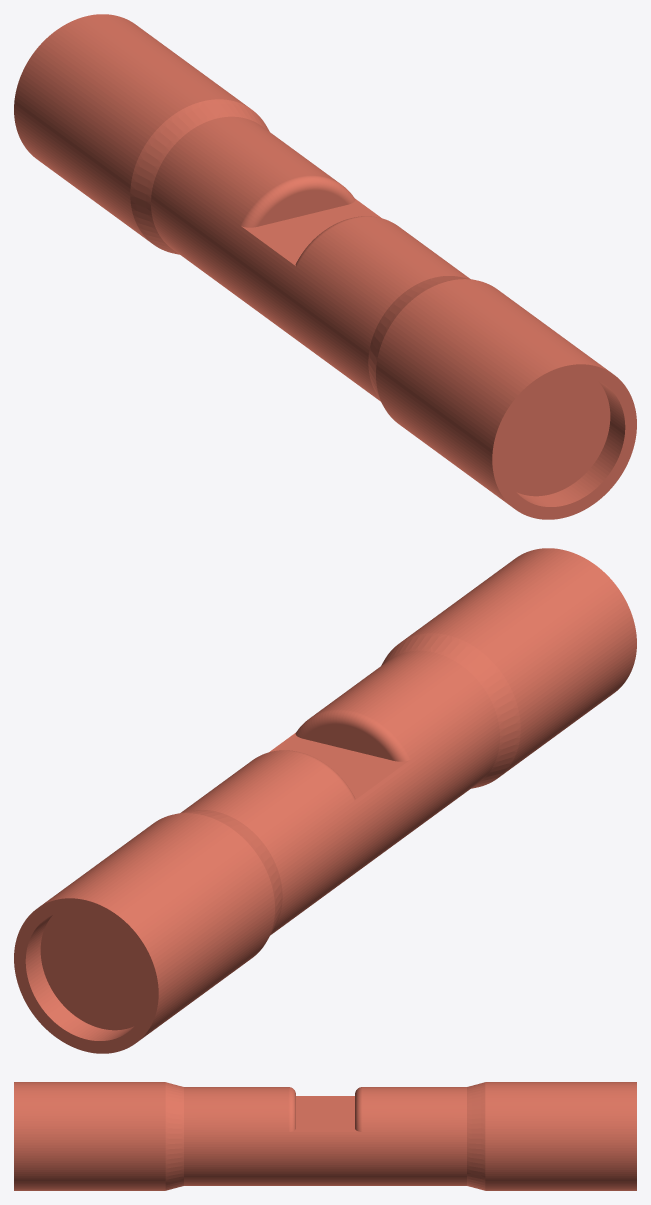
Rendered from TE320559_splice_3.glb.
3 renders of one model, top to bottom at view 1: azimuth 30°, elevation 25°; view 2: azimuth 150°, elevation 25°; view 3: azimuth 270°, elevation 25°, orthographic. The views are drawn at different scales.
Visible parts, largest first — view 1: TE320559_splice_3; view 2: TE320559_splice_3; view 3: TE320559_splice_3.
Part boxes in pixels (x1=…): TE320559_splice_3: x1=14, y1=14, x2=636, y2=519; TE320559_splice_3: x1=14, y1=548, x2=636, y2=1053; TE320559_splice_3: x1=14, y1=1082, x2=636, y2=1190.
Bounding box in the file's own units: 5.61 × 5.61 × 32.13.
